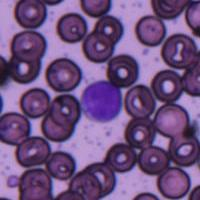L: (81, 80, 122, 123)
